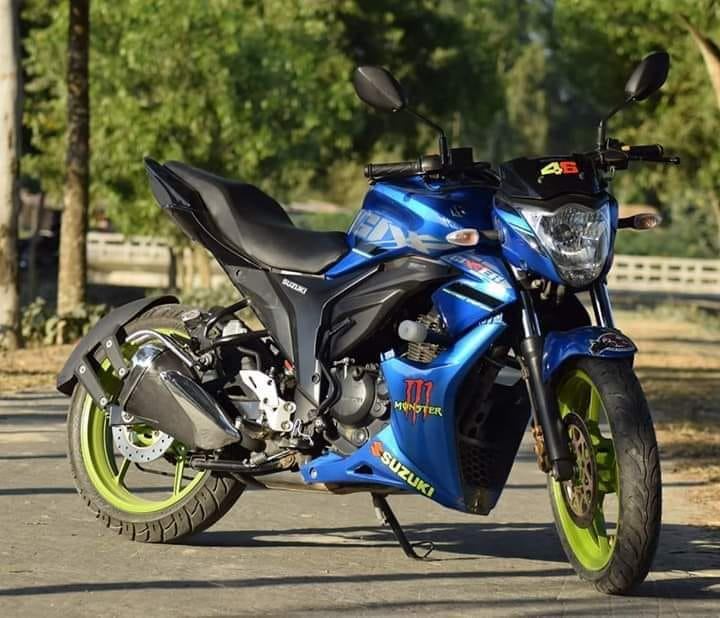bike: (49, 47, 672, 593)
